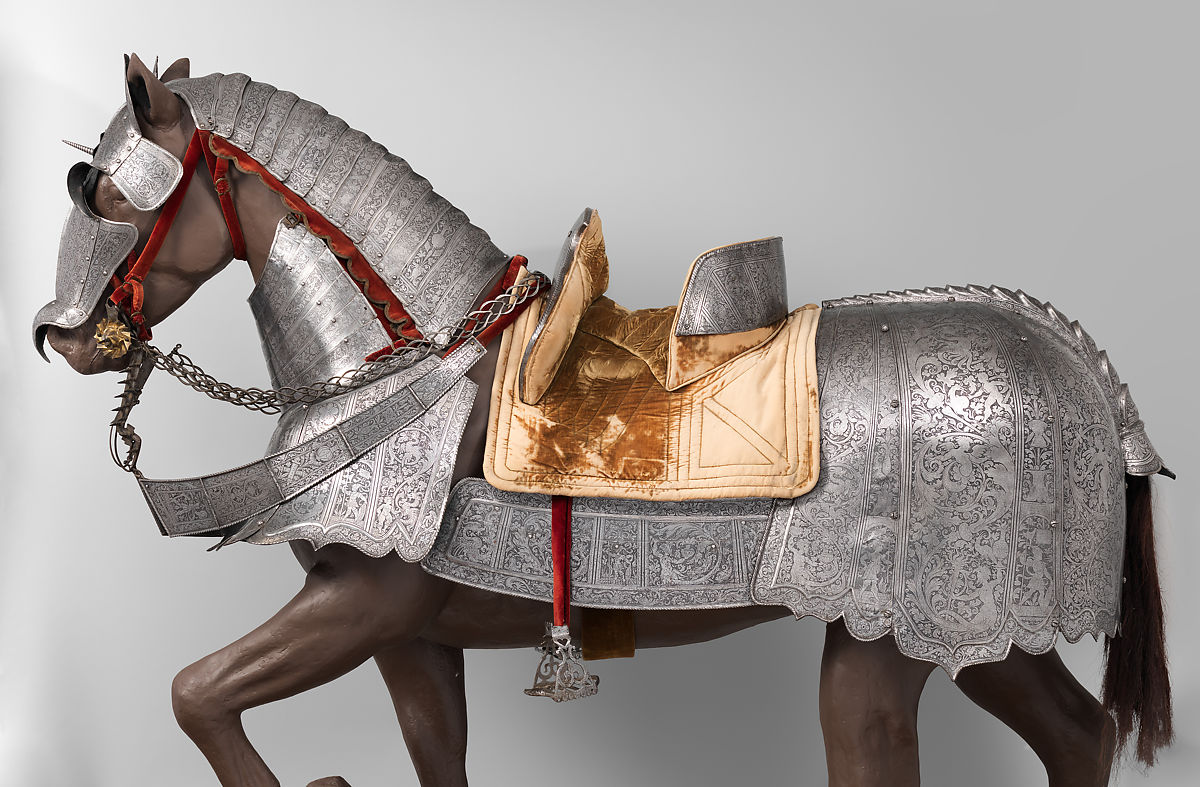Horse: (16, 46, 1163, 786)
